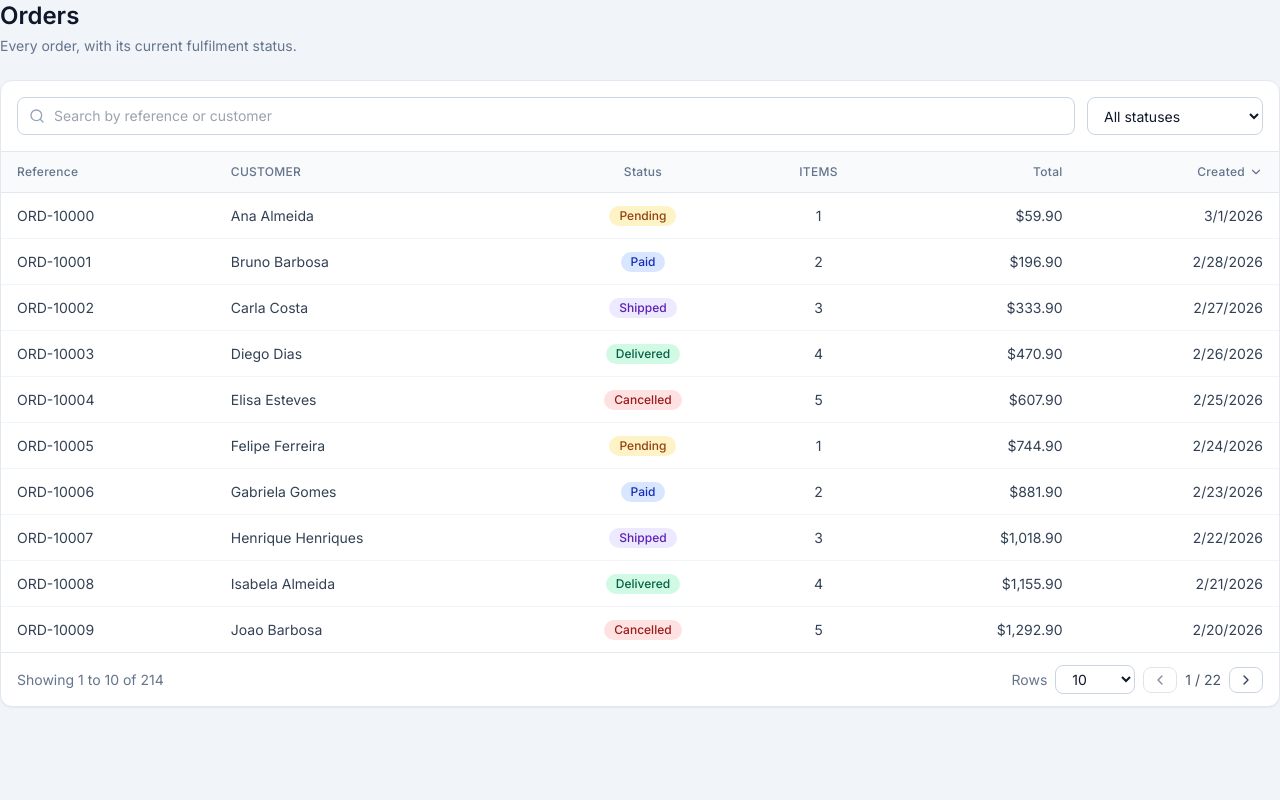
Test: OrdersPage › changes the page size
Select "50" in the dropdown labelled "Rows". click: (1095,680)
box: [1055,665,1135,694]
(page scrolled)
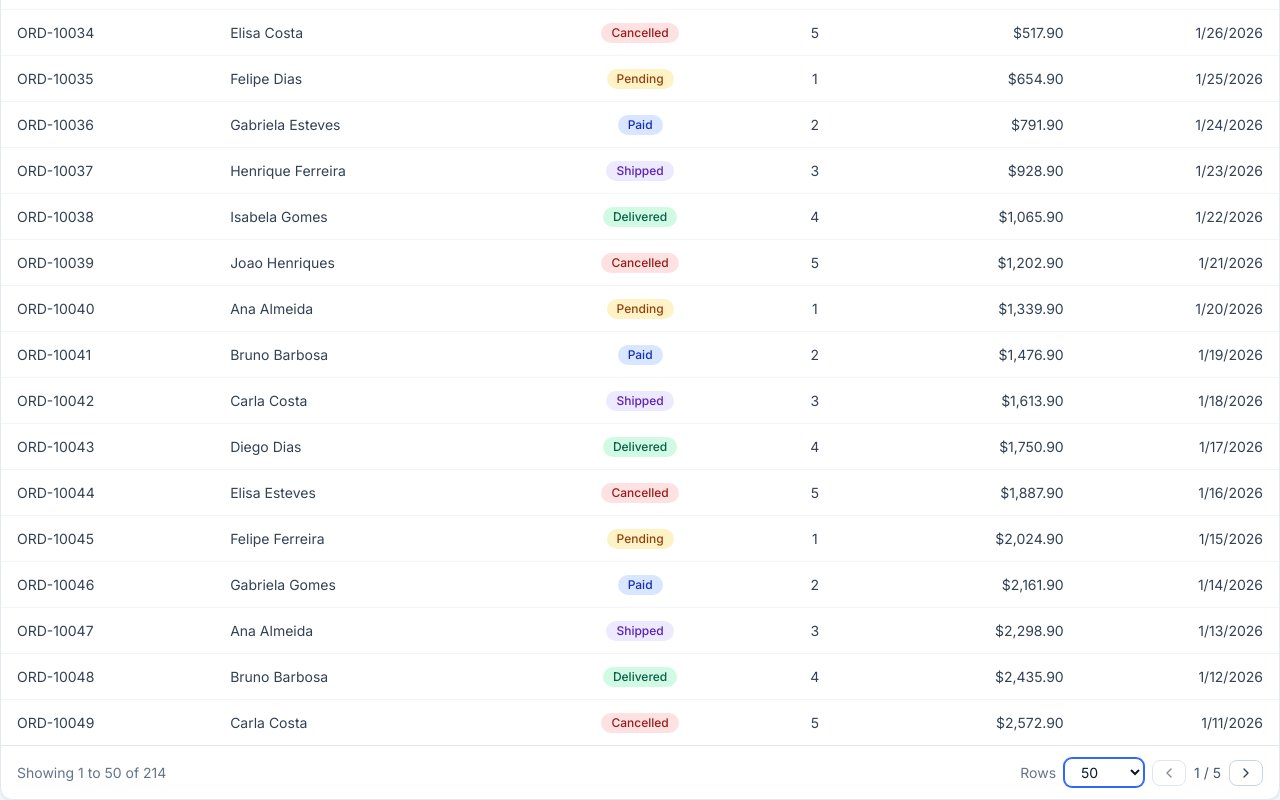
Now the text "Showing 1 to 50 of 214" is shown, box [17,762,166,782]
